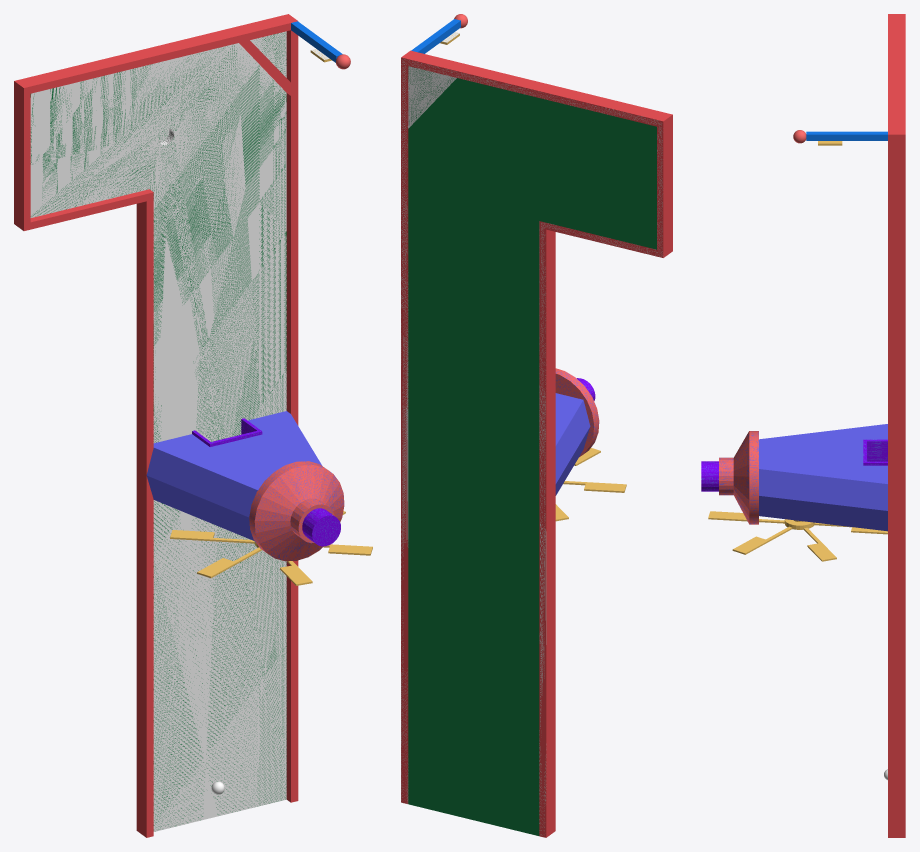
3 views of the same model, side by side, from view 1: azimuth 30°, elevation 25°; view 2: azimuth 150°, elevation 25°; view 3: azimuth 270°, elevation 25° (orthographic). The views are drawn at different scales.
Parts seen in each view (by area): view 1: ID102 (×2), ID118, ID28, ID36 (×2), ID5, ID56, ID126, ID86; view 2: ID102 (×2), ID118 (×2), ID28, ID36, ID5, ID86; view 3: ID118, ID28, ID36 (×2), ID5, ID86, ID42, ID56.
Boxes of the visible parts, bbox=[...] form: ID102 (×2): bbox=[30, 43, 286, 831]; ID118: bbox=[14, 14, 298, 837]; ID28: bbox=[146, 411, 322, 540]; ID36 (×2): bbox=[249, 461, 344, 561]; ID5: bbox=[170, 511, 372, 585]; ID56: bbox=[302, 508, 340, 546]; ID126: bbox=[250, 31, 286, 77]; ID86: bbox=[291, 21, 342, 62]; ID102 (×2): bbox=[408, 66, 656, 835]; ID118 (×2): bbox=[401, 50, 672, 837]; ID28: bbox=[555, 393, 590, 495]; ID36: bbox=[555, 368, 599, 457]; ID5: bbox=[555, 448, 626, 521]; ID86: bbox=[411, 19, 460, 53]; ID118: bbox=[888, 14, 905, 837]; ID28: bbox=[759, 424, 887, 531]; ID36 (×2): bbox=[719, 431, 758, 524]; ID5: bbox=[708, 511, 887, 561]; ID86: bbox=[806, 131, 887, 140]; ID42: bbox=[863, 439, 887, 465]; ID56: bbox=[701, 461, 718, 491].
Size of the model in its own units: 298 by 780 by 205.
